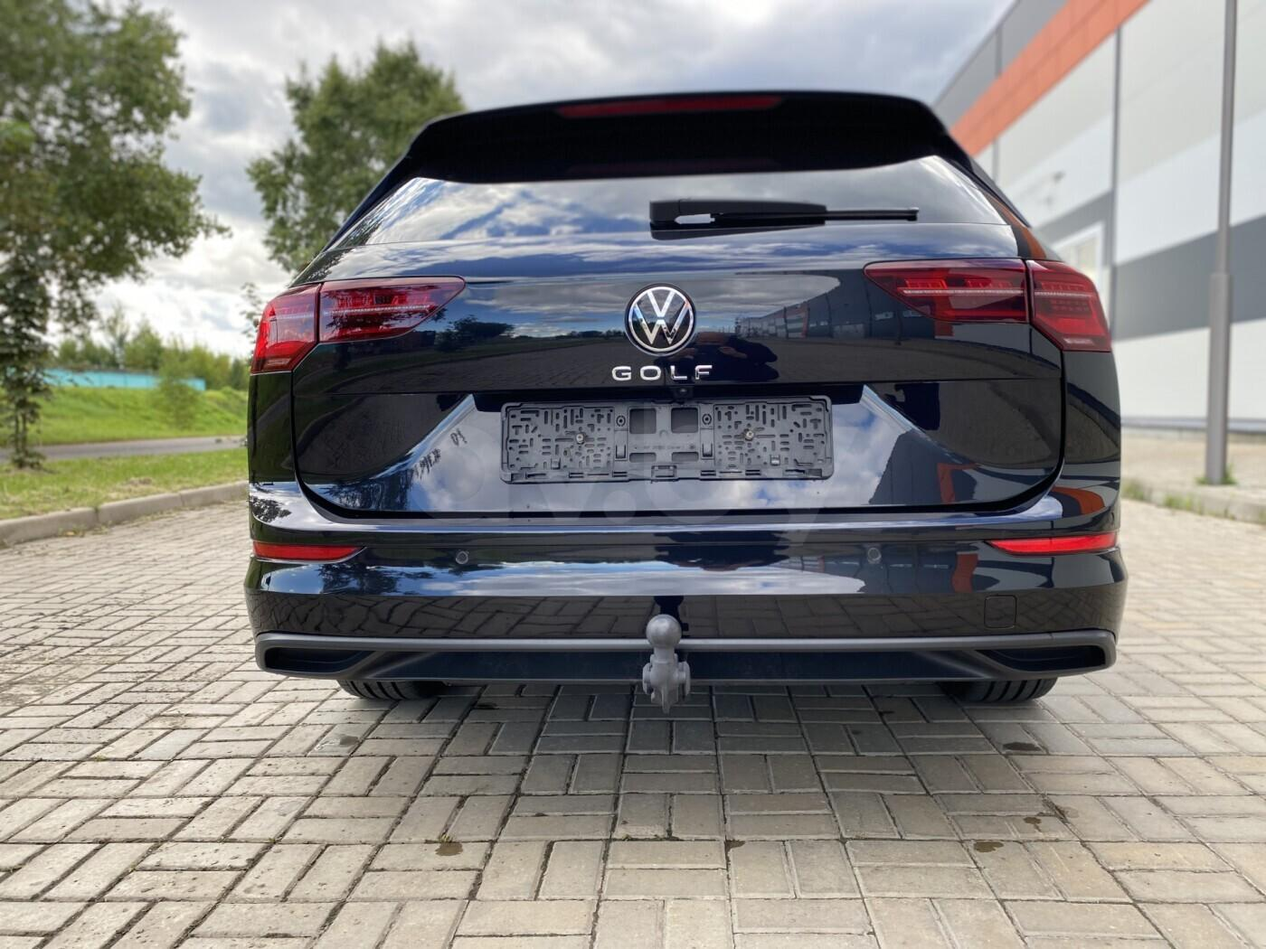Golf_2019: (226, 96, 1130, 722)
